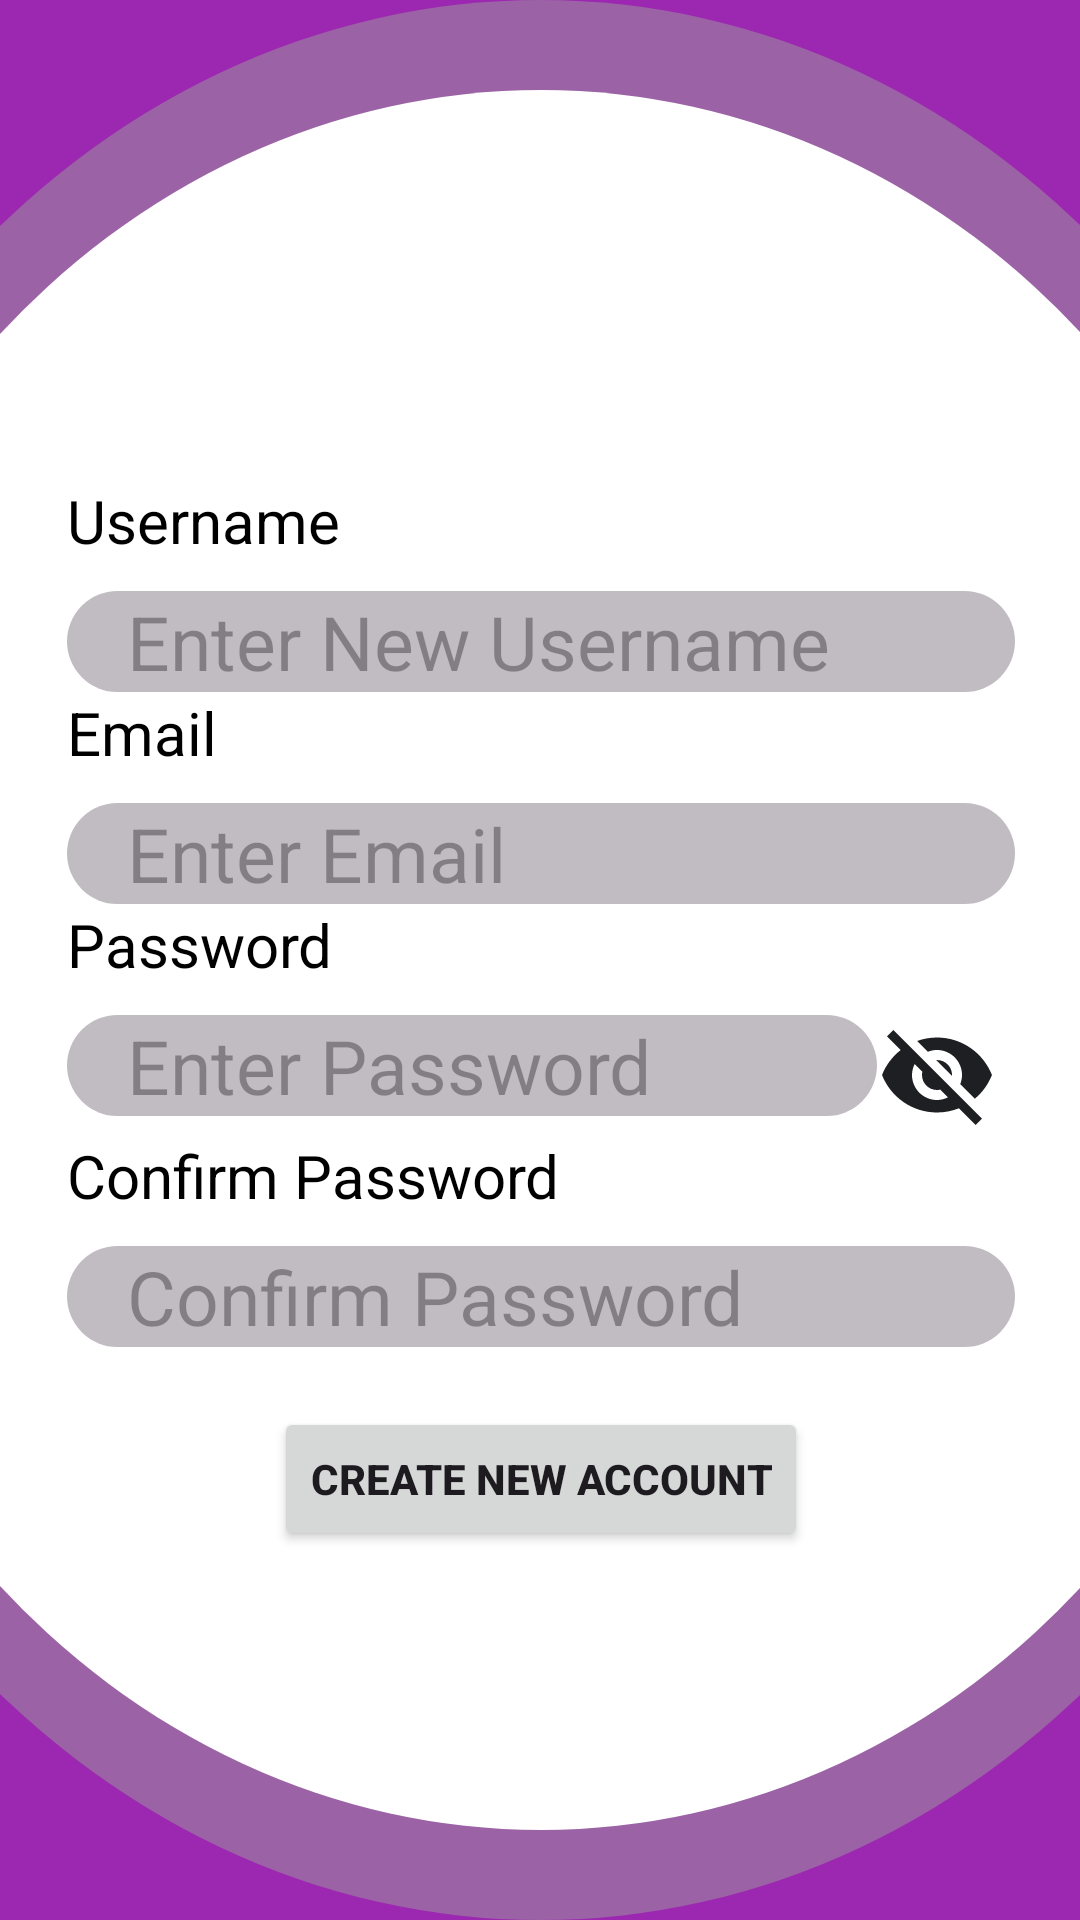

Icons on this 1080*1920 Android screen, each with its box as (x1, y1, x2, y2):
visibility off: (882, 1030, 992, 1125)
